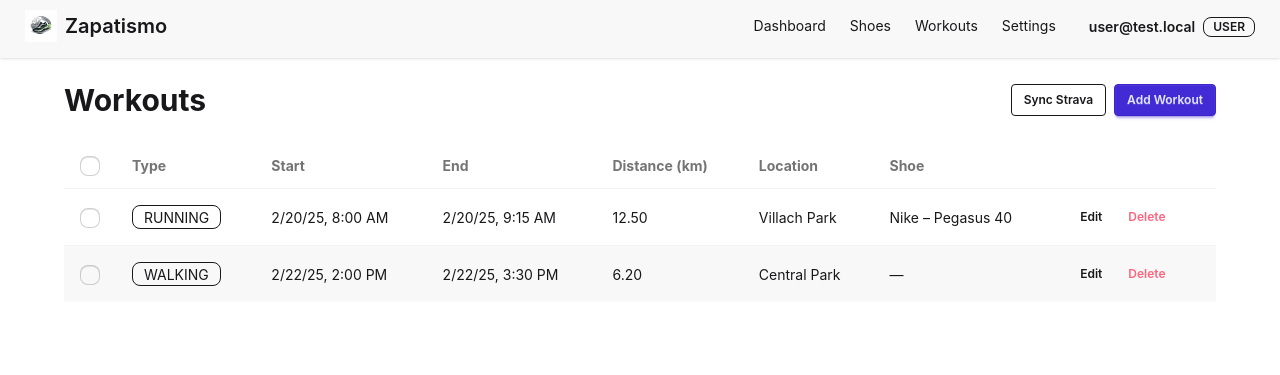
Test: Workouts › e2e › fixtures › toolbar with Assign Shoe visible when at least one workout selected
Check the checkbox with test id "workout-select-1" at point(90, 218), box [80,208,100,228]
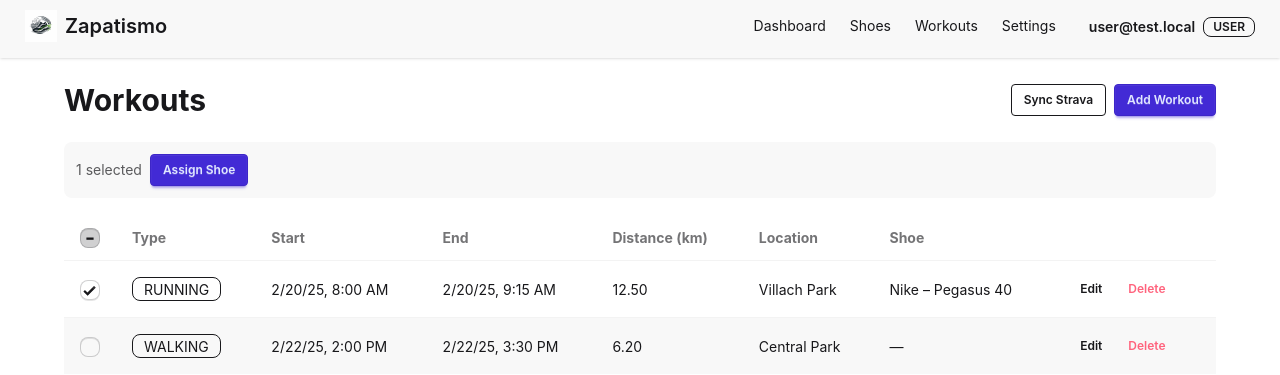
Result: the element with test id "workouts-toolbar" is shown at [64,142,1216,198]
Result: the button with test id "assign-shoe-btn" reads "Assign Shoe" at [150,154,248,186]
